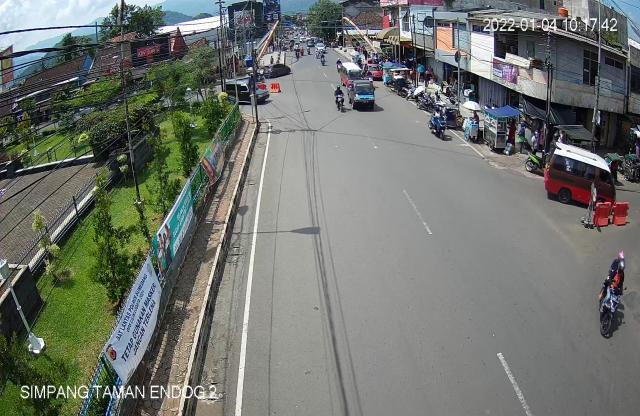Mobil: (546, 140, 618, 214), (349, 77, 377, 114)
Motor: (594, 250, 630, 341), (425, 105, 448, 147), (526, 146, 546, 178), (333, 84, 346, 114)
